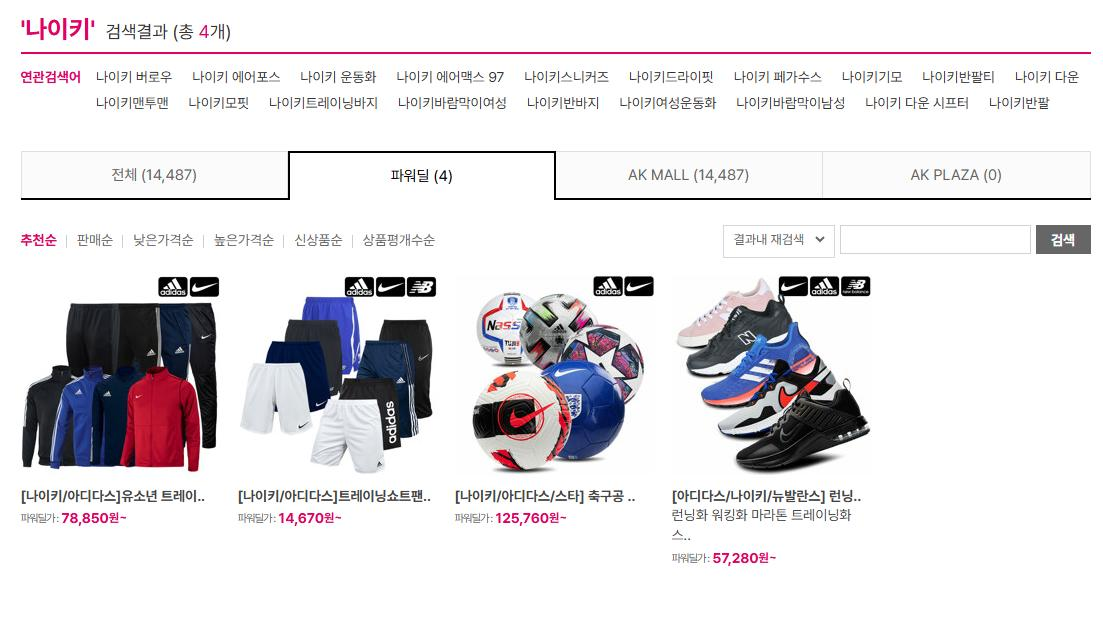button: (555, 150, 825, 198), (290, 153, 554, 202), (827, 151, 1089, 199), (22, 152, 282, 195), (389, 66, 508, 83), (734, 94, 845, 111), (93, 63, 174, 85), (735, 65, 823, 85), (267, 95, 379, 110), (194, 65, 281, 84), (628, 66, 715, 85), (868, 95, 970, 111), (302, 64, 382, 84), (920, 65, 1000, 85), (1034, 226, 1091, 254), (619, 95, 718, 111), (211, 229, 282, 251), (128, 231, 205, 251), (364, 231, 446, 249), (395, 97, 506, 110), (837, 65, 908, 85), (526, 95, 601, 113), (295, 226, 345, 252), (986, 90, 1050, 109), (94, 95, 168, 111), (525, 71, 614, 84), (1016, 66, 1085, 82), (183, 95, 245, 111), (16, 229, 63, 249), (72, 231, 117, 249)
checkbox: (722, 225, 836, 257)
input_field: (841, 225, 1031, 253)
